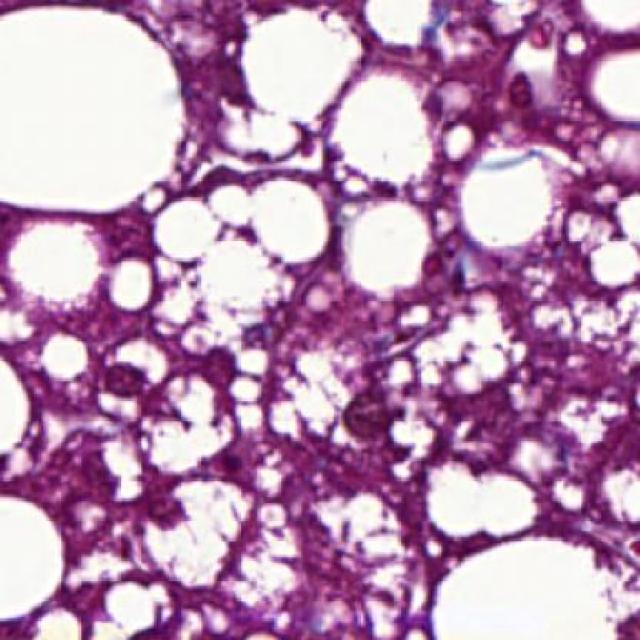steatosis: (0, 488, 65, 622), (591, 46, 640, 130)
